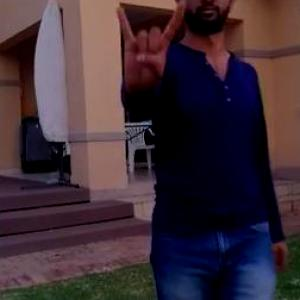takeoff-hand: (107, 0, 196, 103)
